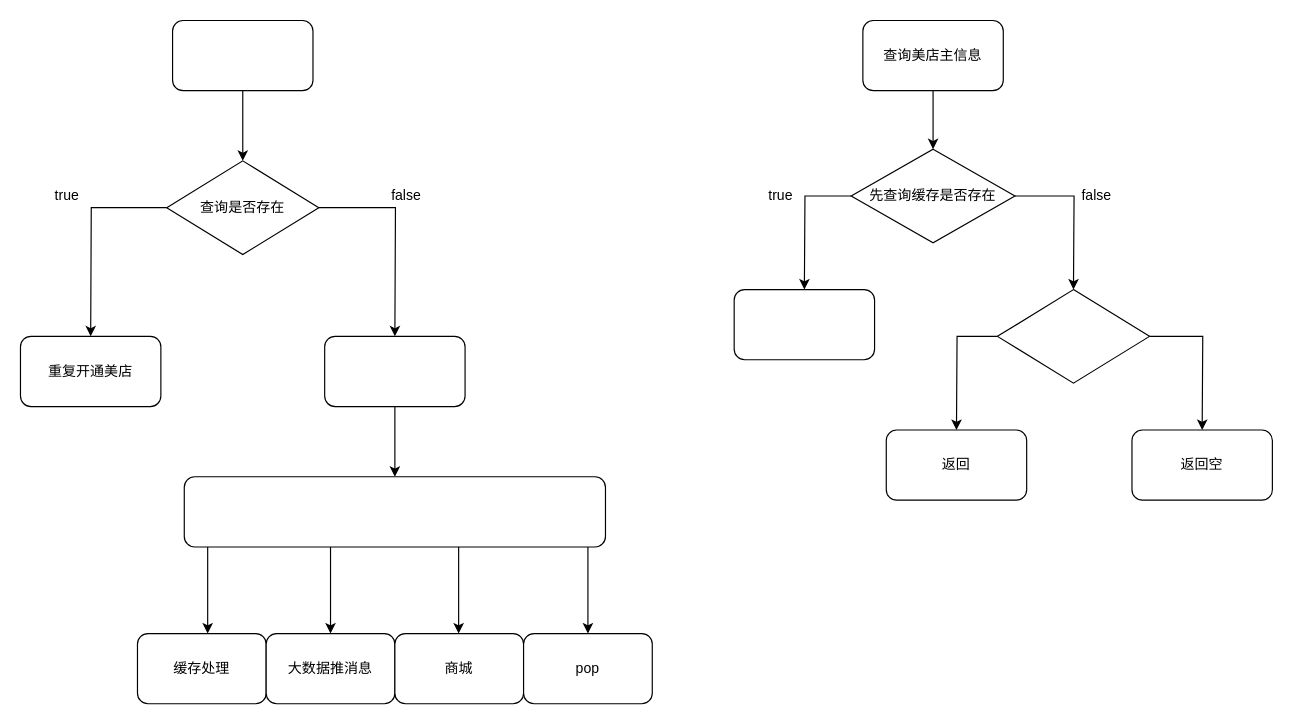
Some shapes in this 1293 by 724 pixel diagram are drawn without their labels. Here are the shapes that lost their labels. From the top down, the centre of each, then its label:
At pixel 242 55: "开通美店".
At pixel 804 324: "直接返回".
At pixel 1073 335: "查询库是否存在".
At pixel 394 371: "新建美店主".
At pixel 394 511: "发布事件".
